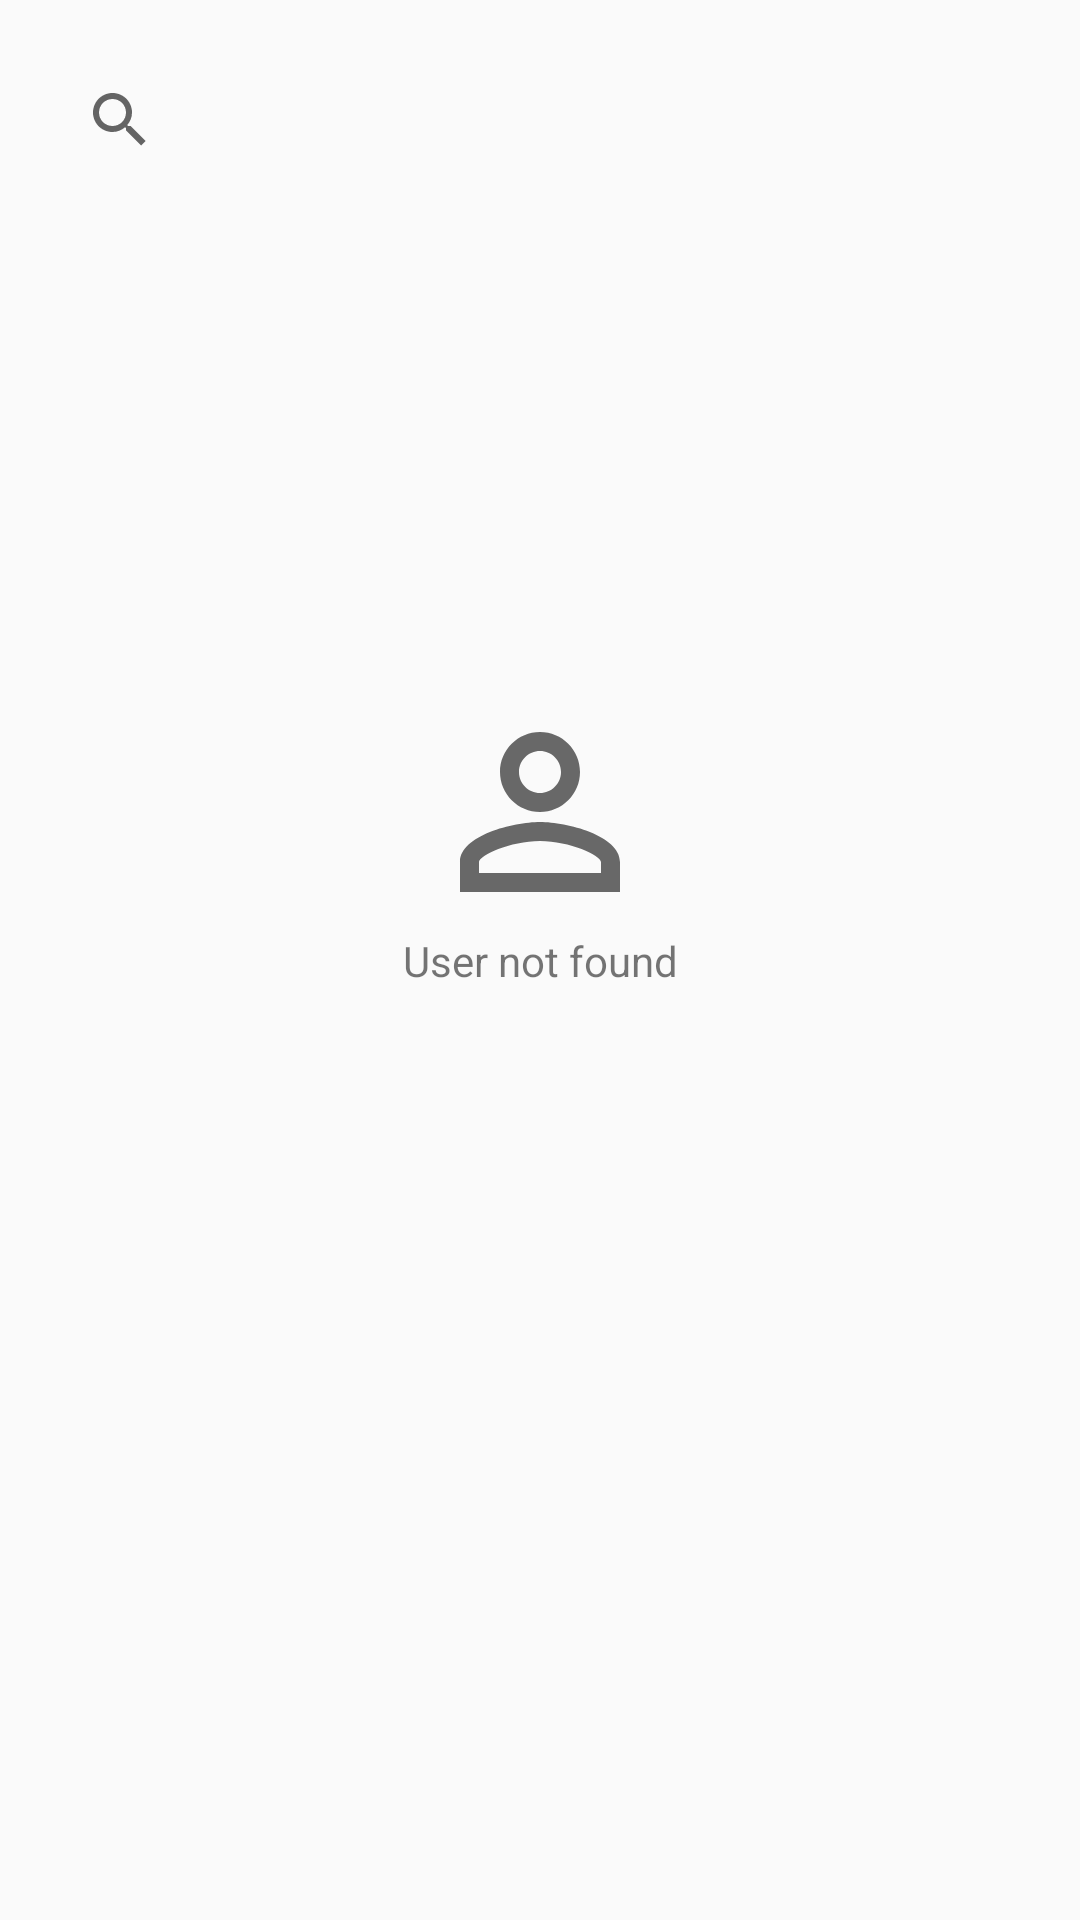

Named icons in this screenshot (1080x1920) and their centers, [x,y]:
person: [540,812]
